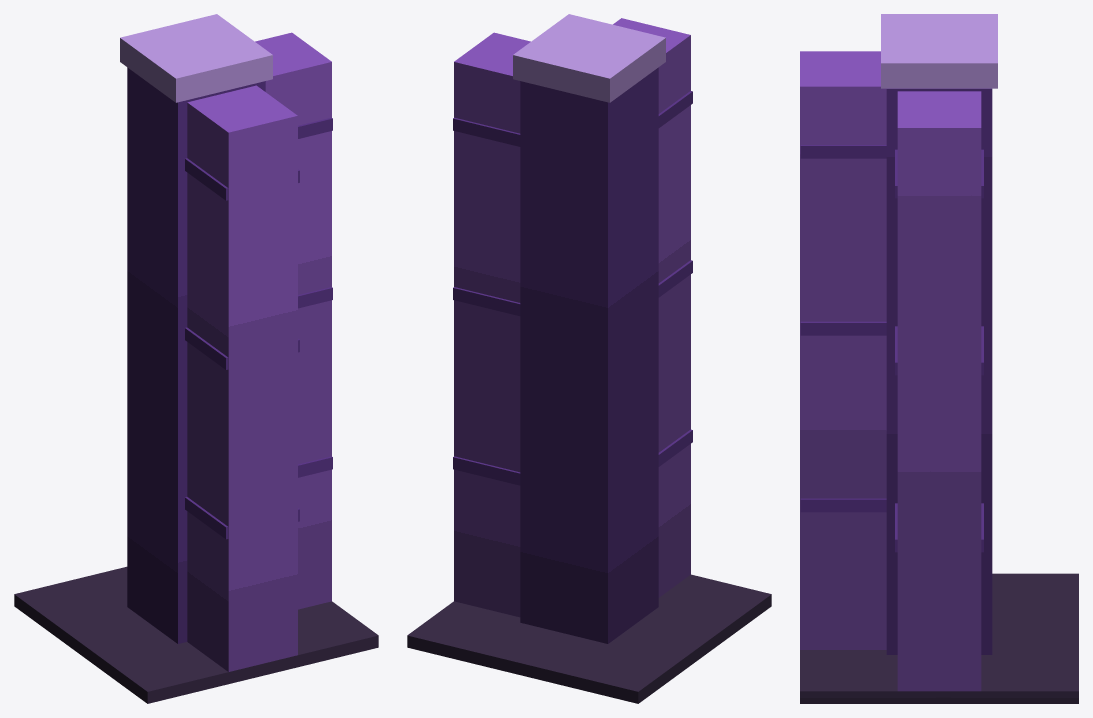
File: model_45_crystal_corner.glb
3 views of the same model, side by side, from view 1: azimuth 30°, elevation 25°; view 2: azimuth 150°, elevation 25°; view 3: azimuth 270°, elevation 25° (orthographic). The views are drawn at different scales.
Bounding box in the file's own units: 1 × 2.4 × 1.
Materials: 1 (1 with a texture image).
